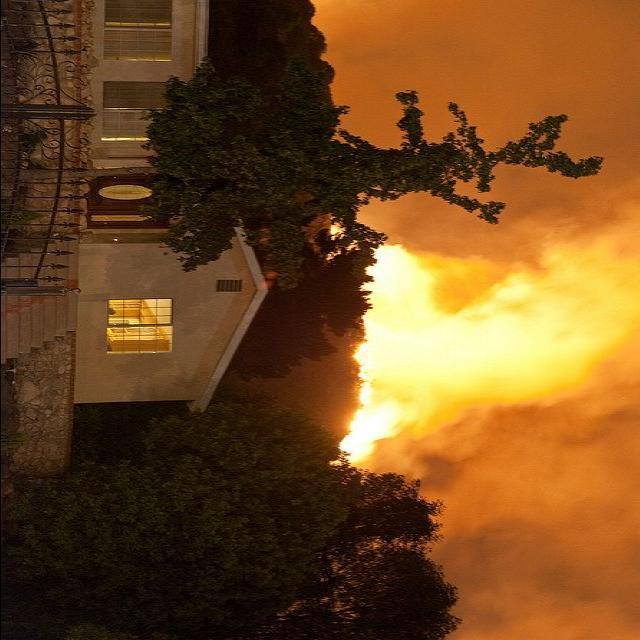Fire: (339, 217, 601, 486)
